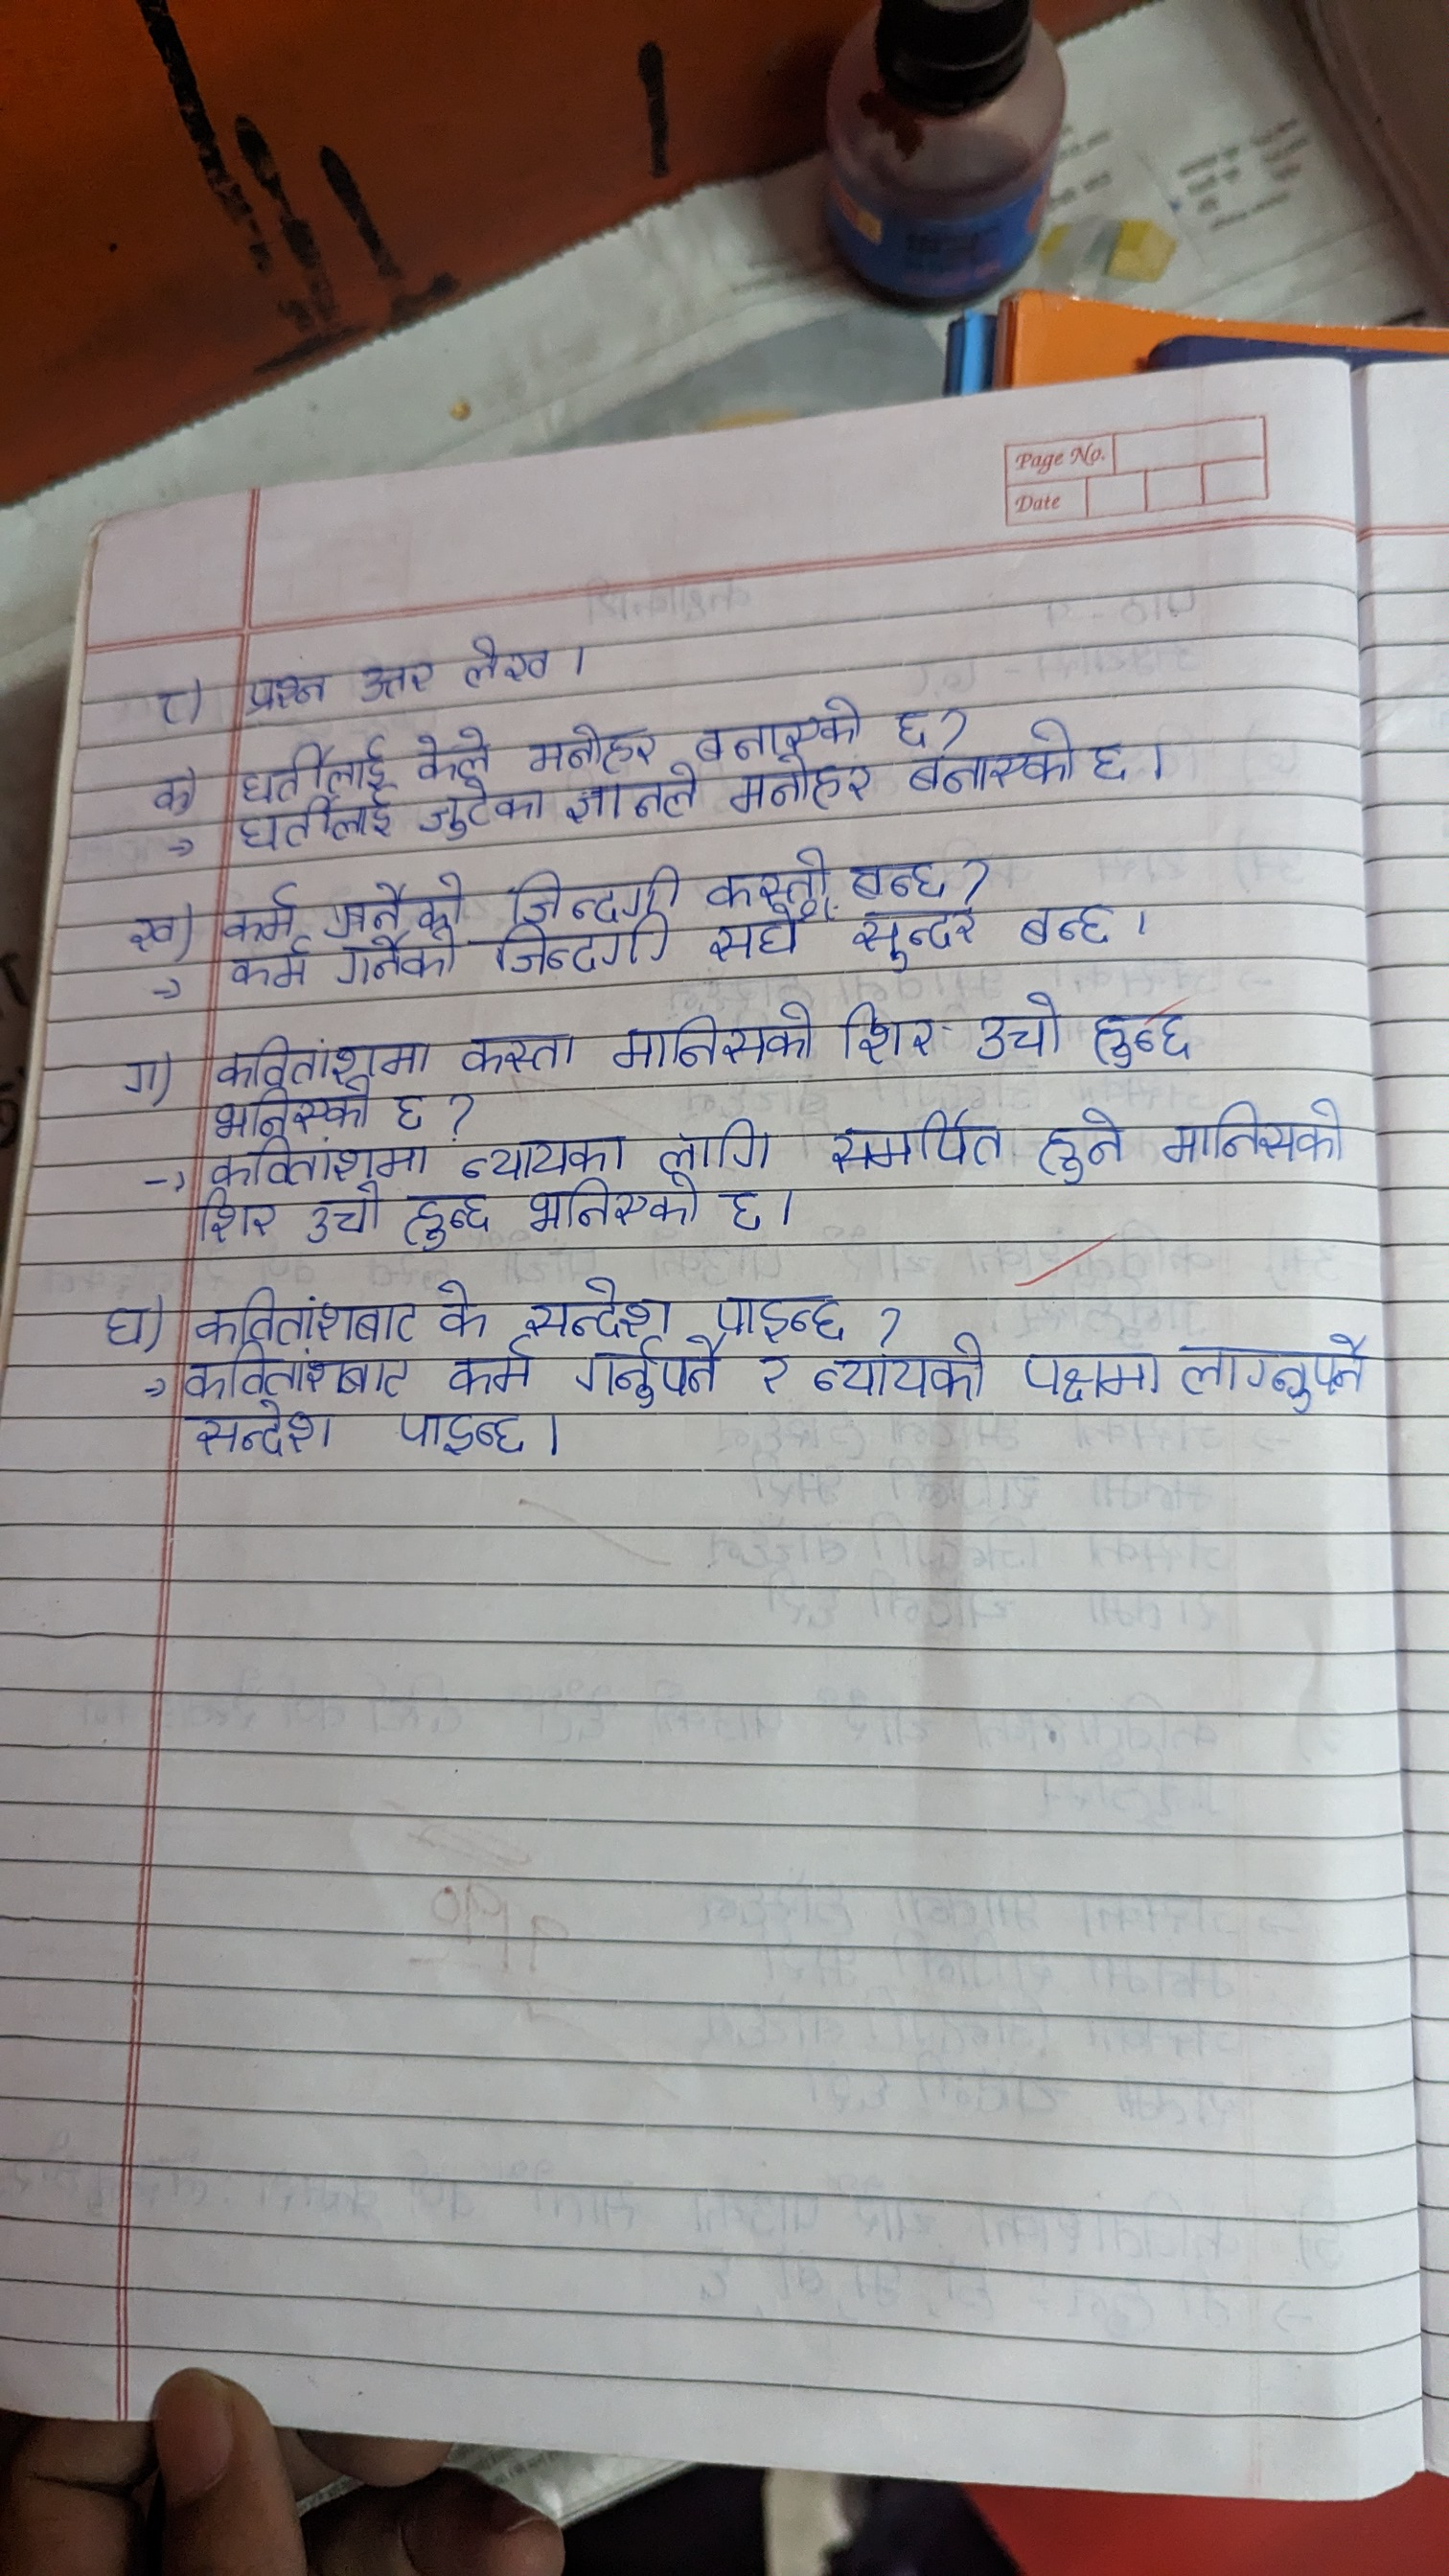text: (1177, 1320, 1371, 1415), (605, 996, 821, 1072), (814, 1099, 1008, 1178), (1159, 1095, 1350, 1168), (212, 1028, 432, 1081), (179, 1401, 352, 1467), (196, 1290, 418, 1341), (518, 1178, 708, 1237), (1014, 1330, 1159, 1407), (182, 1348, 410, 1396), (490, 924, 685, 978), (814, 1346, 991, 1407), (497, 860, 679, 918), (564, 1341, 727, 1405), (200, 1136, 432, 1180), (685, 699, 865, 755), (517, 1272, 669, 1338), (232, 801, 402, 860), (324, 867, 469, 927), (1035, 1097, 1138, 1182), (237, 740, 398, 793), (711, 1281, 846, 1341), (964, 987, 1070, 1063), (389, 1405, 534, 1460), (1086, 996, 1201, 1065), (451, 1016, 579, 1077), (410, 784, 545, 842), (520, 713, 656, 770), (564, 775, 704, 830), (1007, 890, 1123, 955), (203, 1086, 368, 1132), (837, 993, 936, 1069), (456, 1131, 623, 1175), (731, 764, 878, 814), (853, 908, 982, 962), (660, 1109, 773, 1171), (909, 748, 1074, 791), (708, 911, 842, 962), (706, 846, 826, 901), (338, 931, 462, 984), (306, 1182, 393, 1251), (402, 1189, 488, 1256), (839, 847, 948, 899), (462, 639, 563, 694), (212, 879, 299, 939), (191, 1191, 285, 1244), (410, 724, 501, 777), (235, 671, 333, 718), (94, 1286, 159, 1355), (448, 1345, 534, 1396), (432, 1272, 492, 1339), (145, 671, 205, 734), (232, 947, 315, 991), (352, 660, 442, 701), (133, 766, 211, 812), (1083, 725, 1132, 796), (876, 695, 941, 745), (127, 902, 188, 954), (120, 1044, 172, 1099), (715, 1185, 768, 1235), (750, 1345, 794, 1399), (389, 1088, 430, 1132)
